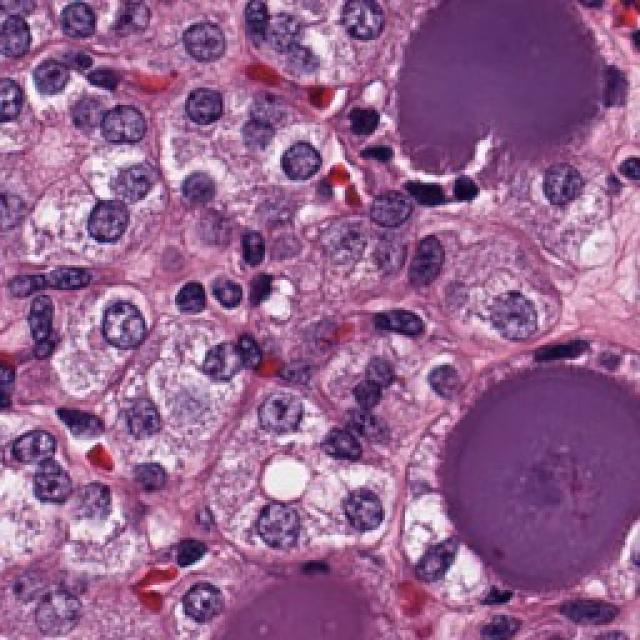abnormal: (241, 464, 324, 601), (399, 493, 489, 617), (77, 274, 176, 381), (237, 358, 323, 470), (462, 262, 568, 350), (259, 112, 341, 216), (0, 417, 80, 523), (1, 401, 80, 508), (60, 177, 141, 276), (403, 324, 484, 419), (173, 5, 263, 90), (168, 71, 252, 162), (530, 133, 602, 239), (158, 552, 242, 640), (335, 459, 409, 557), (480, 270, 561, 359), (331, 453, 398, 546), (360, 176, 429, 261), (93, 85, 157, 176), (93, 89, 155, 168), (175, 0, 242, 72), (24, 48, 85, 114), (175, 151, 218, 218)
